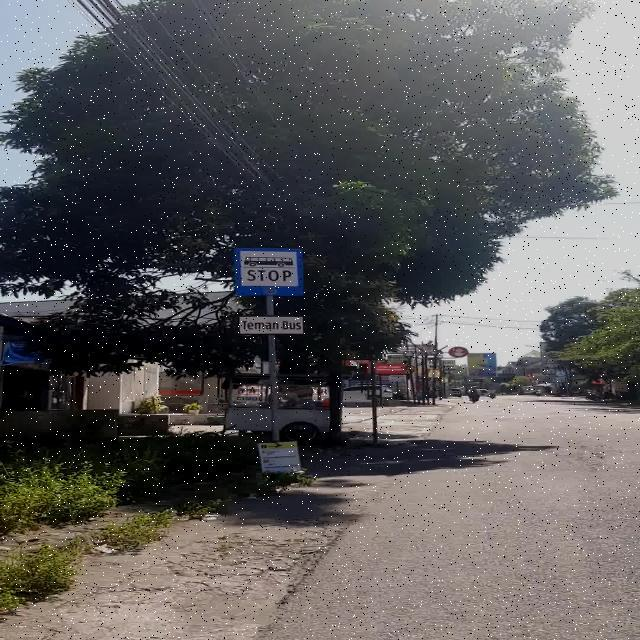Pemberhentian Bus: (234, 248, 305, 296)
